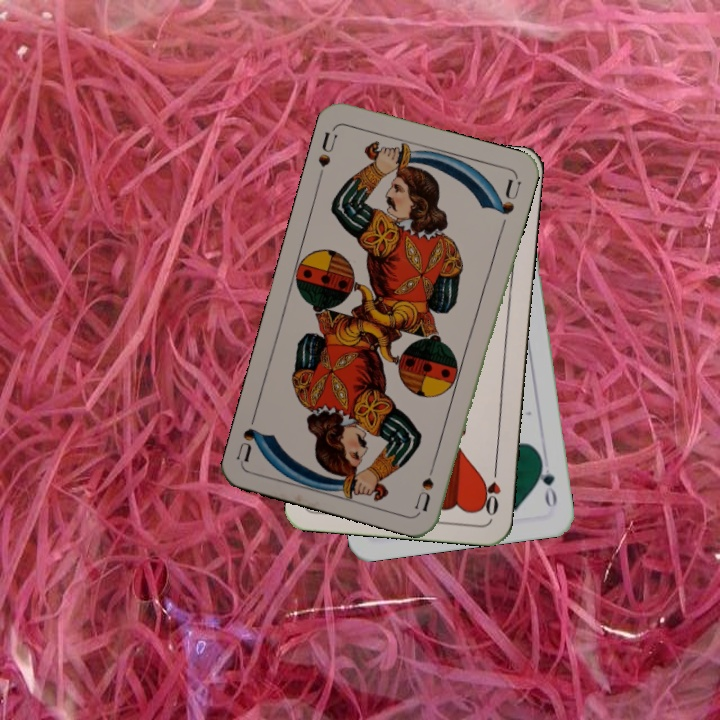GO: (534, 453, 560, 510)
HO: (478, 461, 503, 519)
SU: (411, 454, 440, 513), (314, 127, 340, 170)
